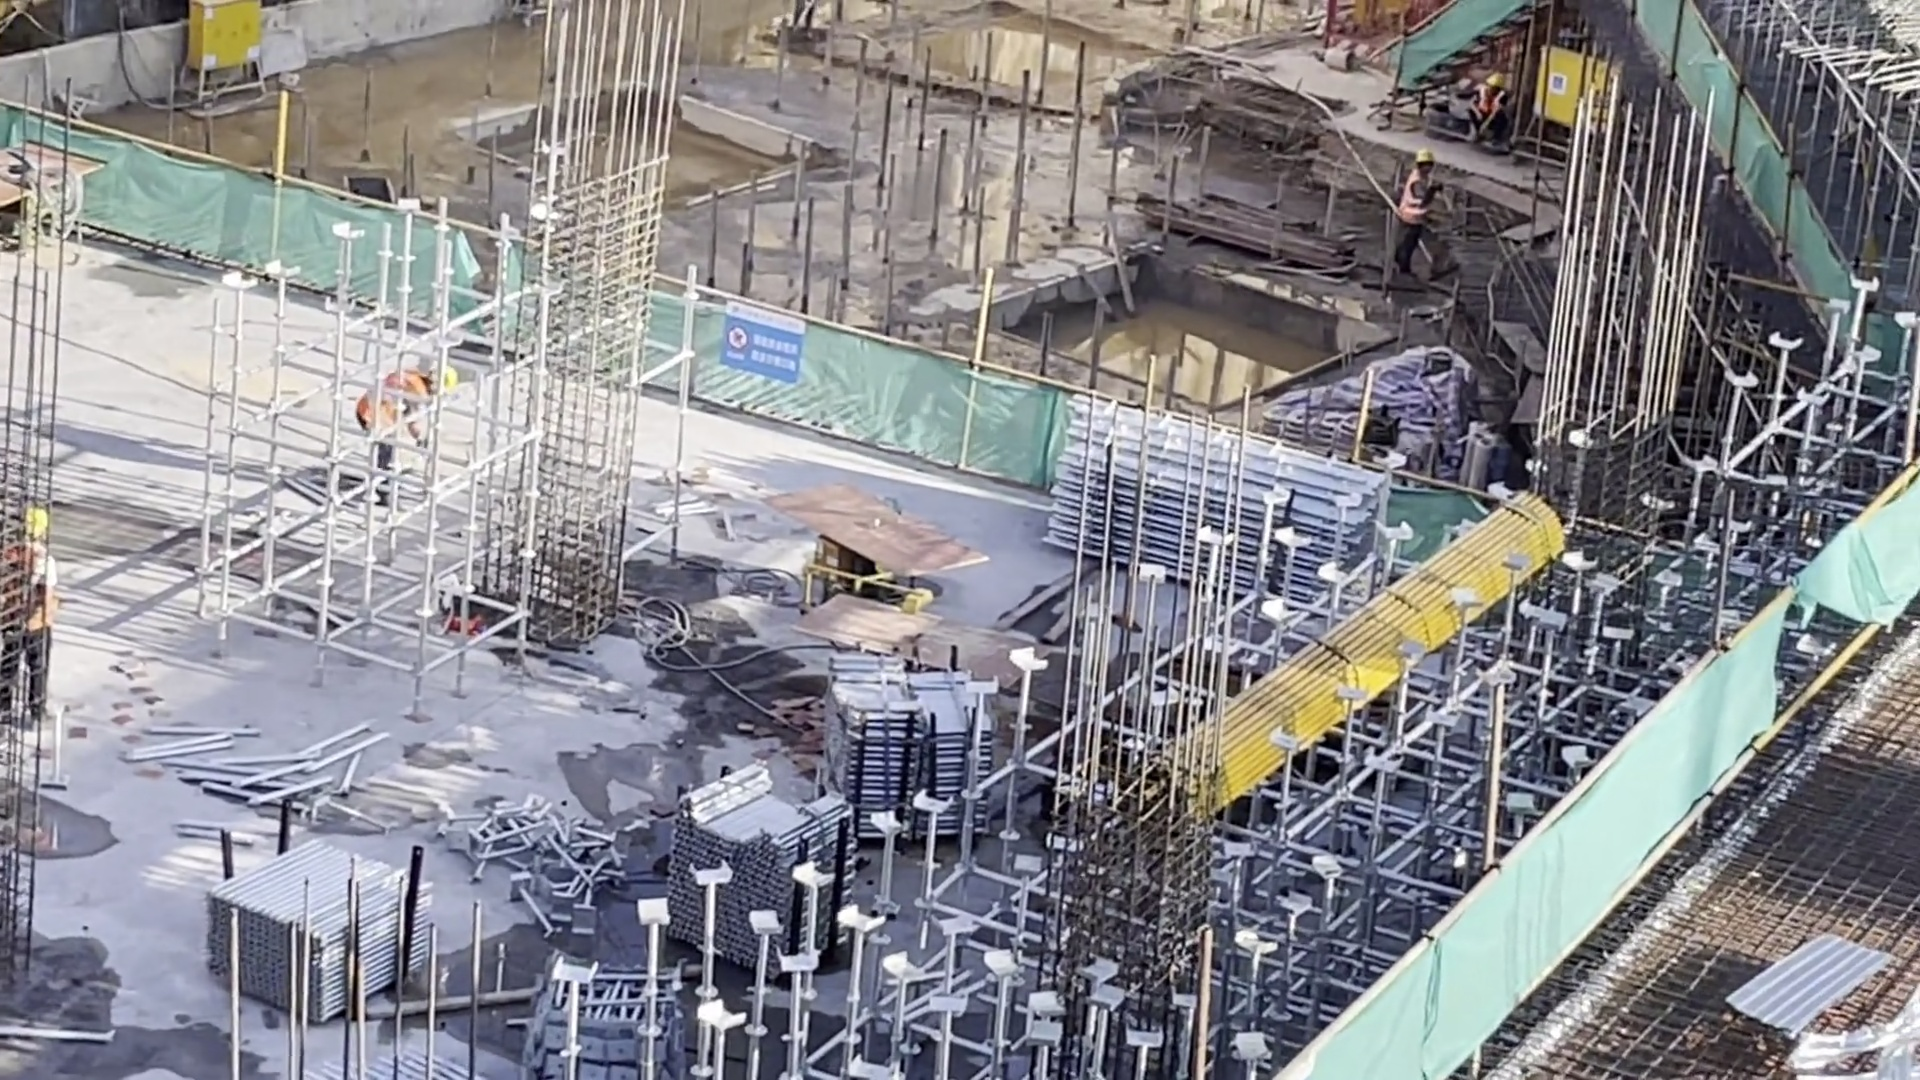cutter: (830, 605, 1059, 706), (798, 497, 975, 617), (1, 147, 82, 221)
ebox: (190, 2, 261, 77), (1538, 55, 1595, 127)
helmet: (17, 507, 57, 538), (430, 367, 458, 390), (1486, 75, 1508, 90), (1415, 155, 1434, 169)
person: (355, 366, 462, 504), (1, 505, 60, 728), (1395, 147, 1453, 289), (1462, 75, 1518, 141)
scaffold: (1095, 436, 1348, 589), (199, 845, 418, 988), (833, 681, 1004, 851), (682, 798, 842, 965), (297, 1040, 479, 1080)
slogan: (714, 313, 793, 380)
vest: (2, 548, 61, 631), (358, 376, 420, 429), (1400, 178, 1432, 226), (1472, 90, 1507, 117)
